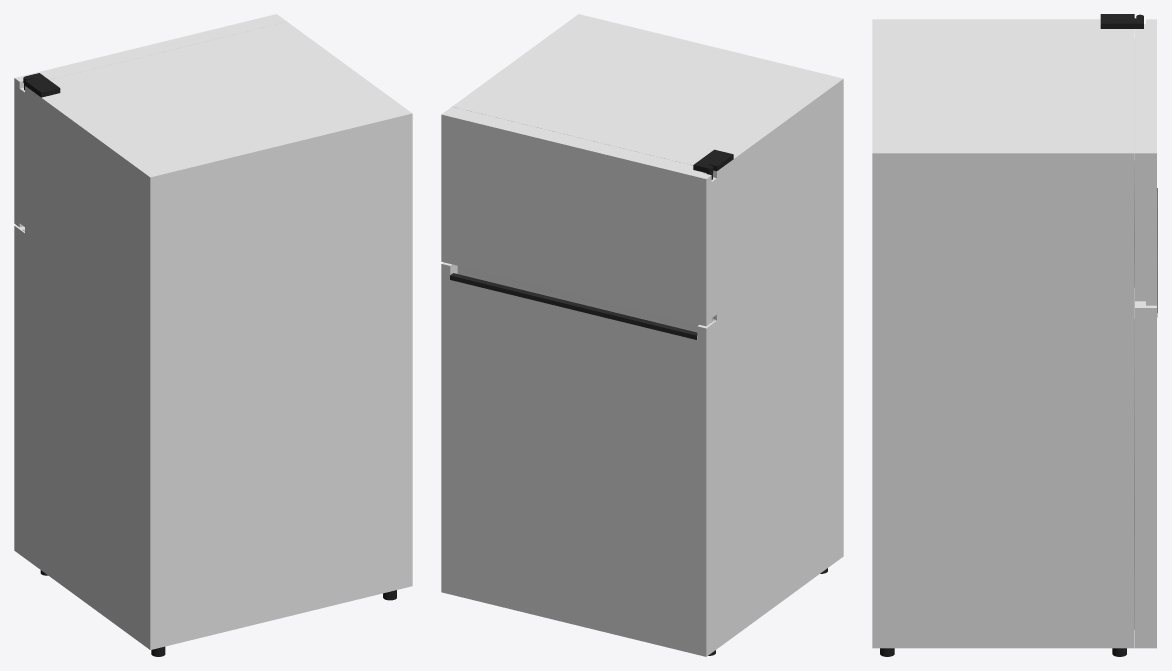
The model's file is Refrigerator07.glb.
The picture shows the model from 3 angles, left to right: view 1: azimuth 30°, elevation 25°; view 2: azimuth 150°, elevation 25°; view 3: azimuth 270°, elevation 25°; orthographic projection. The views are drawn at different scales.
Visible parts, largest first — view 1: Refrigerator07_model, Refrigerator07_Door01, Refrigerator07_Door02; view 2: Refrigerator07_model, Refrigerator07_Door02, Refrigerator07_Door01; view 3: Refrigerator07_model, Refrigerator07_Door02, Refrigerator07_Door01.
Part boxes in pixels (<box>): Refrigerator07_model: <box>23,22,412,656</box>; Refrigerator07_Door01: <box>14,14,286,227</box>; Refrigerator07_Door02: <box>14,225,24,557</box>; Refrigerator07_model: <box>452,14,843,655</box>; Refrigerator07_Door02: <box>441,262,716,656</box>; Refrigerator07_Door01: <box>441,107,716,326</box>; Refrigerator07_model: <box>872,14,1143,656</box>; Refrigerator07_Door02: <box>1134,188,1157,648</box>; Refrigerator07_Door01: <box>1134,19,1156,305</box>.
Size of the model in its own units: 1.76 by 3.15 by 1.58.
1 material, 1 textured.
